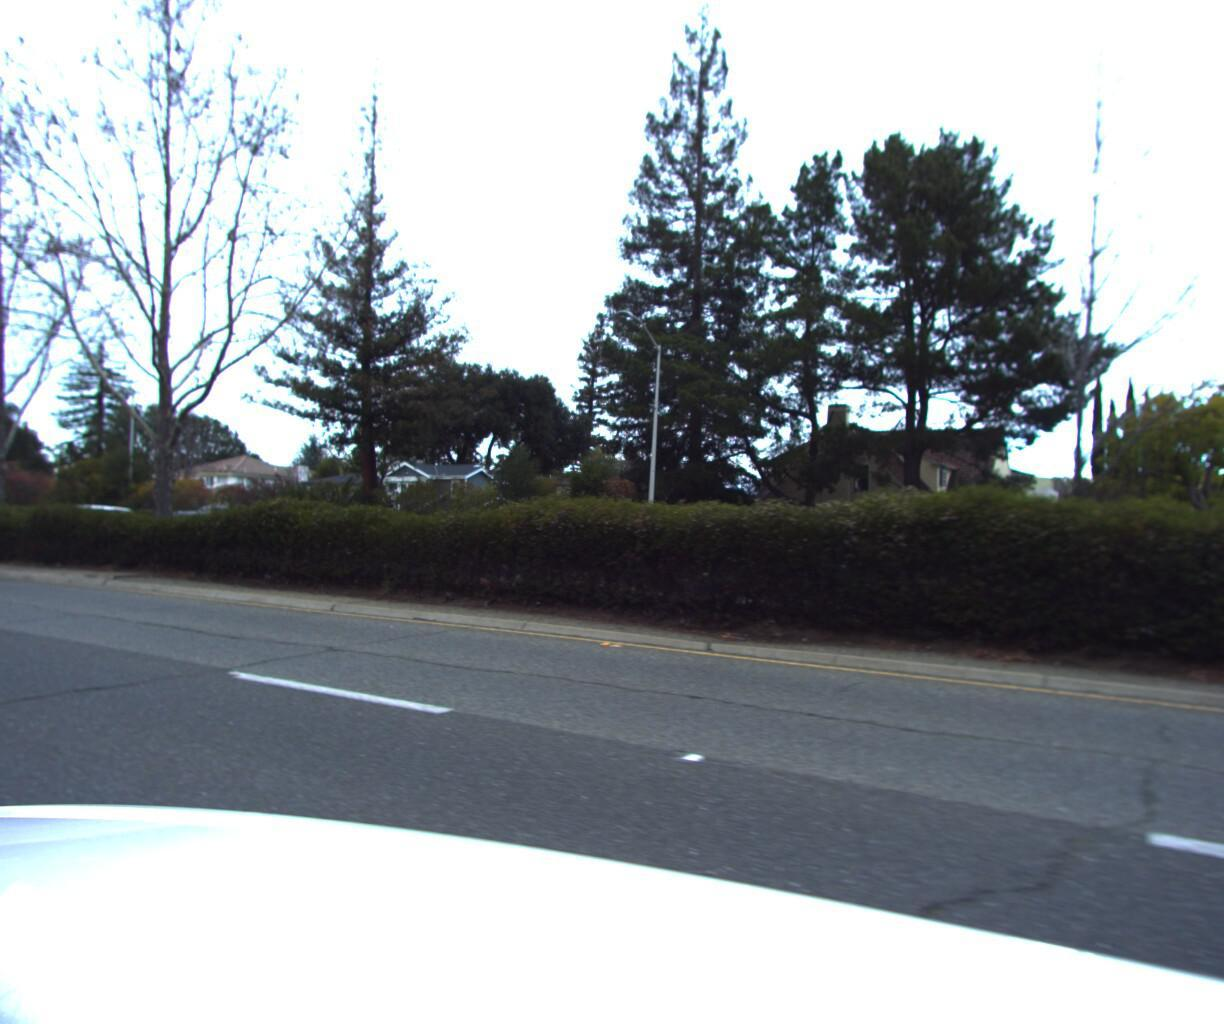car: (47, 509, 184, 558)
